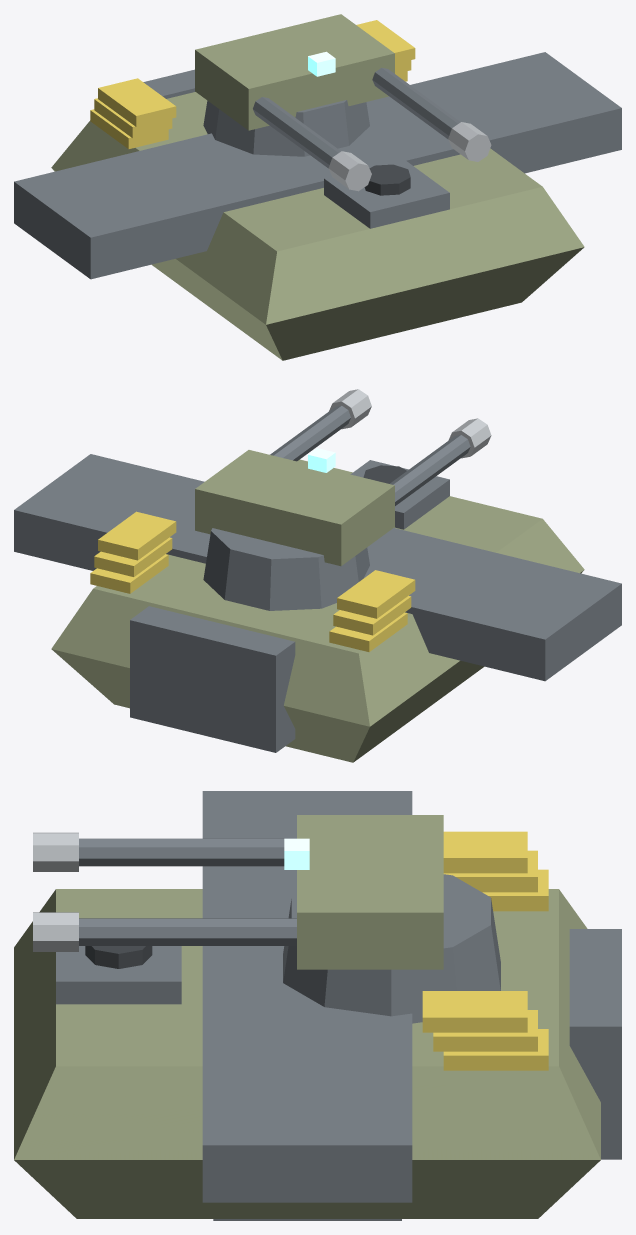
File: mech-hangar-and-battle-frames-quad-torso-c5817a12__26788.glb
The picture shows the model from 3 angles, top to bottom: view 1: azimuth 30°, elevation 25°; view 2: azimuth 150°, elevation 25°; view 3: azimuth 270°, elevation 25°; orthographic projection. The views are drawn at different scales.
Visible parts, largest first — view 1: quad-torso, turret (×4); view 2: quad-torso, turret (×4); view 3: quad-torso, turret (×4).
Boxes of the visible parts, left/top/right/bottom form: quad-torso: left=14, top=20, right=621, bottom=360; turret (×4): left=195, top=14, right=491, bottom=191; quad-torso: left=14, top=454, right=621, bottom=762; turret (×4): left=195, top=389, right=491, bottom=610; quad-torso: left=14, top=791, right=621, bottom=1220; turret (×4): left=33, top=815, right=500, bottom=1023.
Bounding box in the file's own units: 4 × 1.7 × 2.9.
